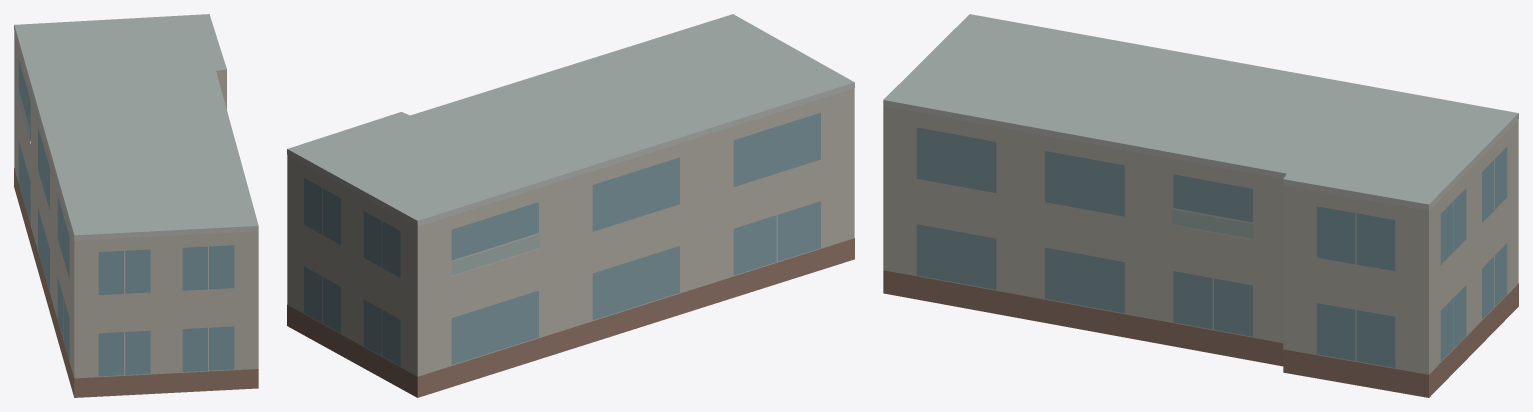
File: survey-upis-32908095.glb
3 renders of one model, left to right at view 1: azimuth 30°, elevation 25°; view 2: azimuth 150°, elevation 25°; view 3: azimuth 270°, elevation 25°, orthographic. The views are drawn at different scales.
Visible parts, largest first — view 1: survey-upis-32908095.tmp; view 2: survey-upis-32908095.tmp; view 3: survey-upis-32908095.tmp.
Part boxes in pixels (<box>): survey-upis-32908095.tmp: <box>14,14,258,397</box>; survey-upis-32908095.tmp: <box>287,14,854,397</box>; survey-upis-32908095.tmp: <box>883,14,1518,397</box>.
Size of the model in its own units: 15.86 by 7.5 by 22.35.
